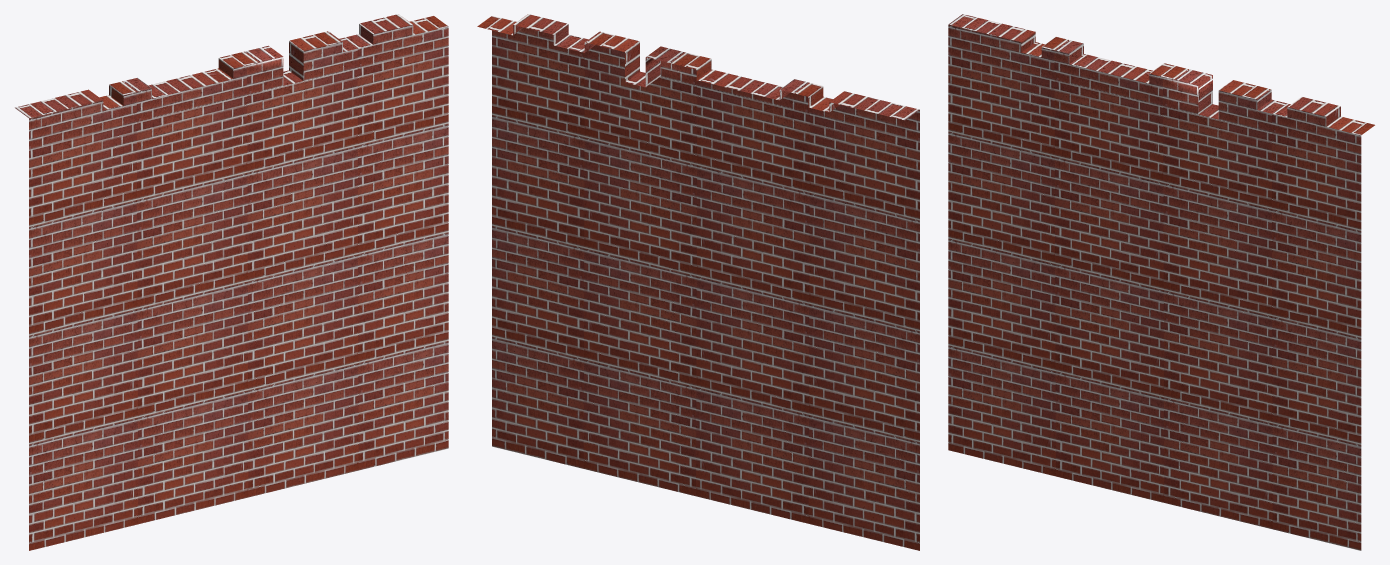
File: Wall Bricks.fbx
The picture shows the model from 3 angles, left to right: view 1: azimuth 30°, elevation 25°; view 2: azimuth 150°, elevation 25°; view 3: azimuth 330°, elevation 25°; orthographic projection. The views are drawn at different scales.
Visible parts, largest first — view 1: polySurface25; view 2: polySurface25; view 3: polySurface25.
Boxes of the visible parts, box(x1,y1,x2,y2) form: polySurface25: box(15, 14, 448, 550); polySurface25: box(477, 14, 919, 550); polySurface25: box(948, 14, 1374, 550).
Size of the model in its own units: 17.61 by 17.35 by 1.06.
1 material, 1 textured.
